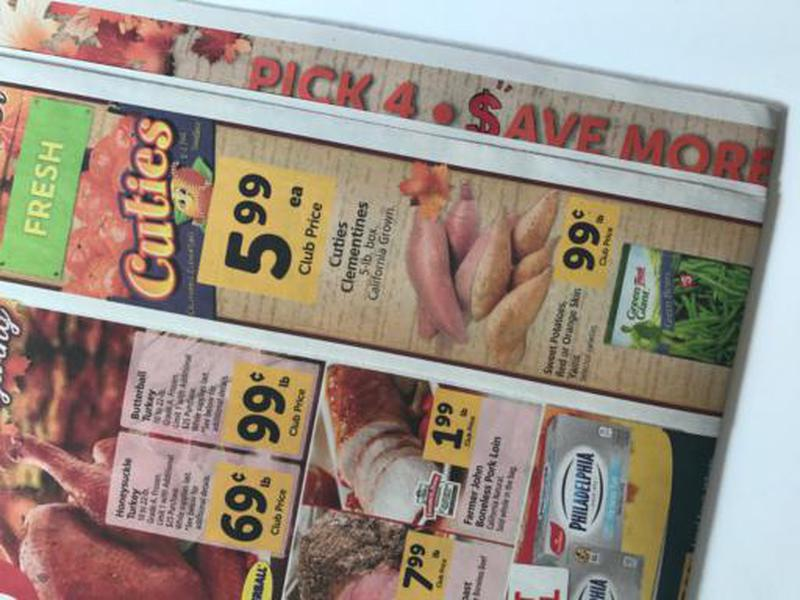paper: (1, 1, 789, 600)
